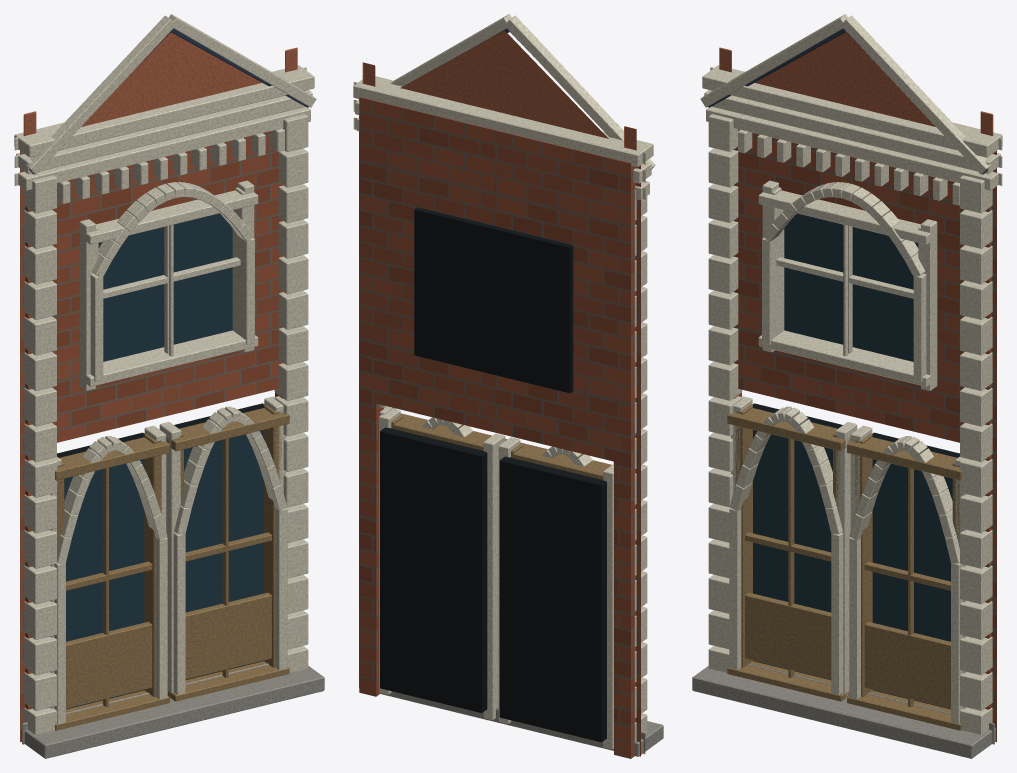
Rendered from CLSTGA17_lod1.glb.
The picture shows the model from 3 angles, left to right: view 1: azimuth 30°, elevation 25°; view 2: azimuth 150°, elevation 25°; view 3: azimuth 330°, elevation 25°; orthographic projection.
Visible parts, largest first — view 1: CLSTGA17_FRONT_LOD1; view 2: CLSTGA17_FRONT_LOD1; view 3: CLSTGA17_FRONT_LOD1.
Boxes of the visible parts, <box> form: CLSTGA17_FRONT_LOD1: <box>14,14,324,758</box>; CLSTGA17_FRONT_LOD1: <box>353,14,663,758</box>; CLSTGA17_FRONT_LOD1: <box>692,14,1002,758</box>.
Bounding box in the file's own units: 3.44 × 7.86 × 0.68.
Materials: 9 (7 with a texture image).
